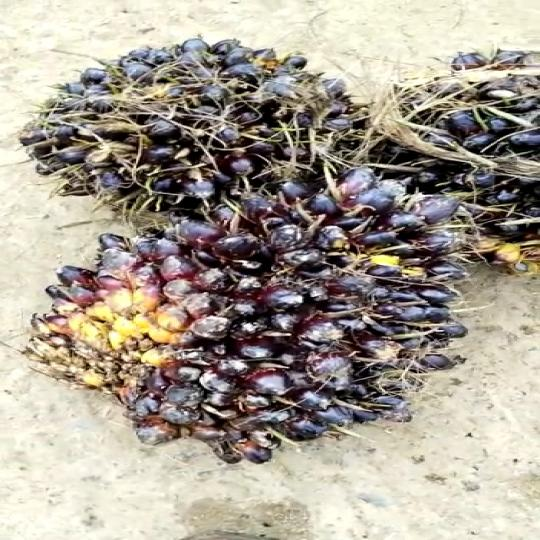mentah: (49, 168, 526, 455), (32, 23, 362, 214)
